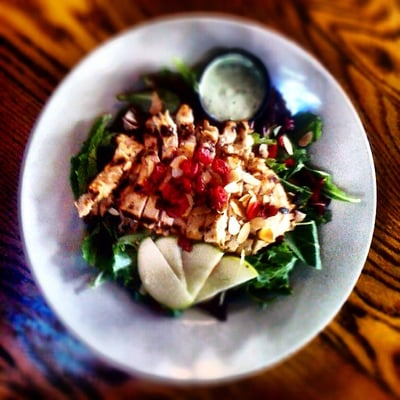salad: (196, 50, 268, 123)
sushi: (16, 2, 369, 400)
